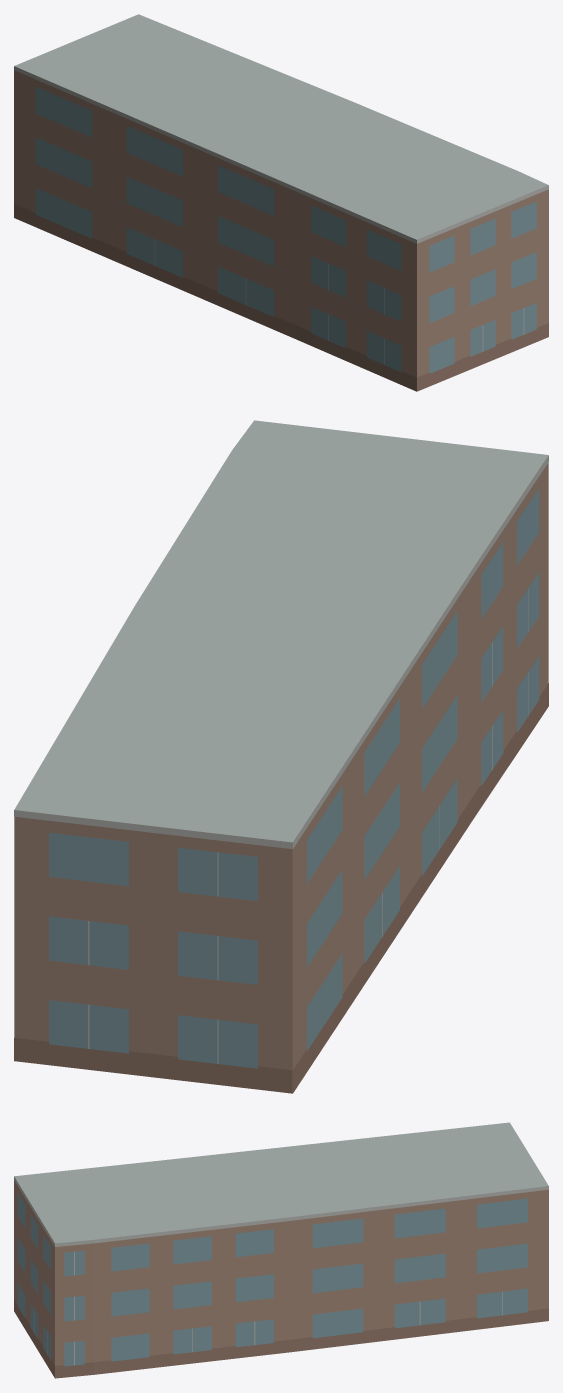
The model's file is survey-upis-32474348.glb.
3 views of the same model, one above another, from view 1: azimuth 30°, elevation 25°; view 2: azimuth 150°, elevation 25°; view 3: azimuth 270°, elevation 25° (orthographic). The views are drawn at different scales.
Parts seen in each view (by area): view 1: survey-upis-32474348.tmp; view 2: survey-upis-32474348.tmp; view 3: survey-upis-32474348.tmp.
Boxes of the visible parts, box(x1,y1,x2,y2) form: survey-upis-32474348.tmp: box(14, 14, 548, 391); survey-upis-32474348.tmp: box(14, 420, 548, 1093); survey-upis-32474348.tmp: box(14, 1122, 548, 1378).
Size of the model in its own units: 17.61 by 9.15 by 32.87.
